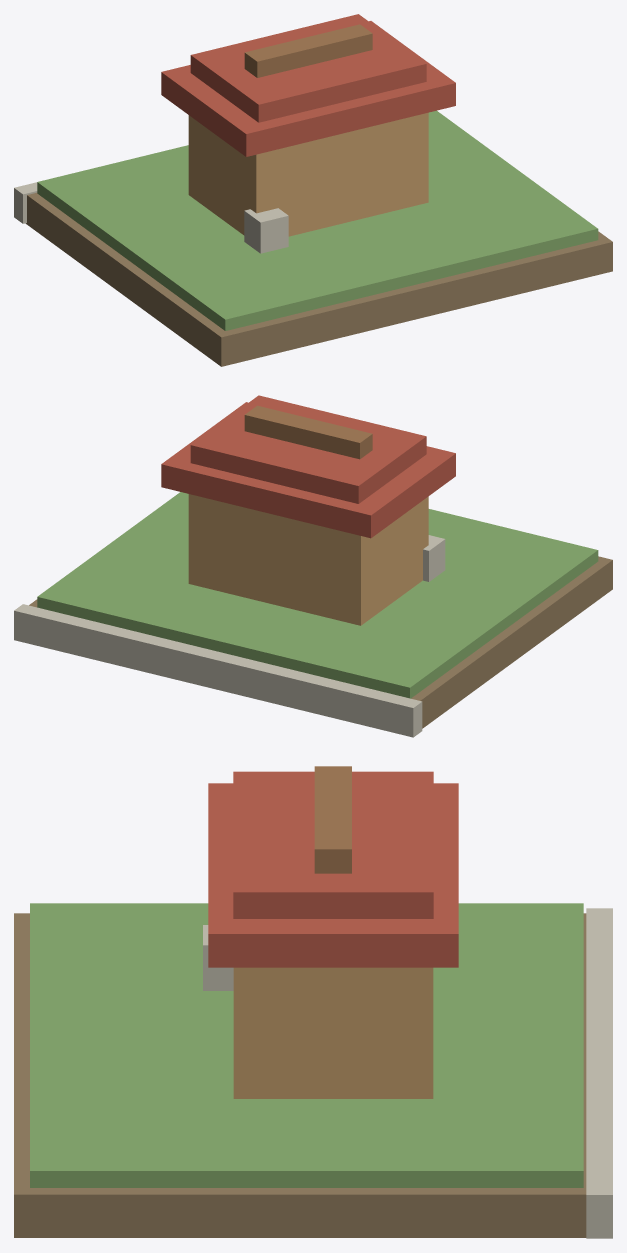
Rendered from 08_NhaNongDan.glb.
3 views of the same model, one above another, from view 1: azimuth 30°, elevation 25°; view 2: azimuth 150°, elevation 25°; view 3: azimuth 270°, elevation 25° (orthographic). The views are drawn at different scales.
Visible parts, largest first — view 1: grass, soil, house, roof2, roof, ridge, jar, border; view 2: grass, house, border, roof2, roof, soil, ridge, jar; view 3: grass, soil, house, roof2, roof, border, ridge, jar.
Boxes of the visible parts, bbox=[...] form: grass: bbox=[37, 110, 598, 330]; soil: bbox=[25, 192, 612, 366]; house: bbox=[188, 112, 428, 236]; roof2: bbox=[190, 14, 426, 122]; roof: bbox=[161, 21, 455, 156]; ridge: bbox=[244, 24, 372, 77]; jar: bbox=[244, 208, 288, 253]; border: bbox=[14, 182, 37, 223]; grass: bbox=[37, 492, 598, 698]; house: bbox=[188, 494, 428, 625]; border: bbox=[14, 604, 422, 737]; roof2: bbox=[190, 395, 426, 503]; roof: bbox=[161, 402, 455, 538]; soil: bbox=[29, 556, 612, 728]; ridge: bbox=[244, 405, 372, 459]; jar: bbox=[423, 535, 445, 581]; grass: bbox=[30, 903, 583, 1187]; soil: bbox=[14, 913, 586, 1237]; house: bbox=[233, 967, 433, 1098]; roof2: bbox=[233, 771, 433, 918]; roof: bbox=[208, 783, 458, 967]; border: bbox=[586, 908, 612, 1238]; ridge: bbox=[314, 766, 351, 873]; jar: bbox=[203, 925, 233, 990].
Bounding box in the file's own units: 2.55 × 1.2 × 2.25.
